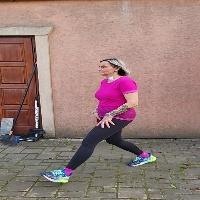lunges: (39, 49, 168, 186)
